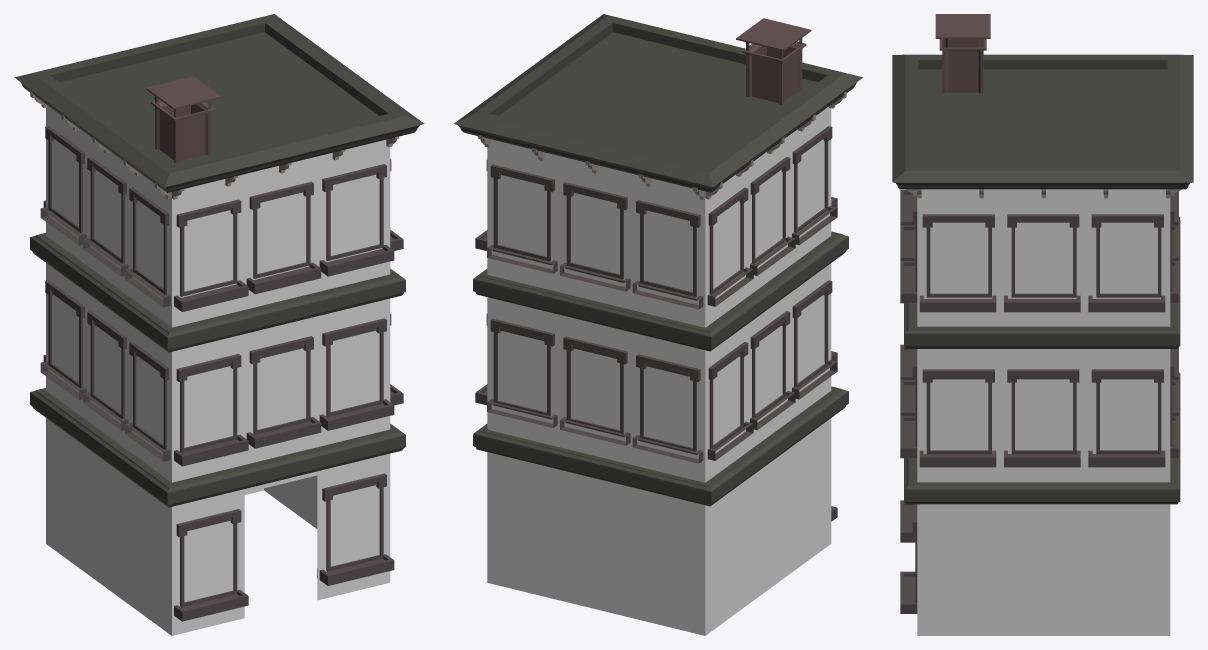
The model's file is Batiment.MSH_.fbx.
3 views of the same model, side by side, from view 1: azimuth 30°, elevation 25°; view 2: azimuth 150°, elevation 25°; view 3: azimuth 270°, elevation 25° (orthographic).
Visible parts, largest first — view 1: immeuble, toit, jonction, deco fenetre, vitre., deco fenetre.side, cheminée, soutient toit; view 2: immeuble, toit, jonction, vitre., deco fenetre, deco fenetre.side, cheminée, soutient toit; view 3: immeuble, toit, jonction, deco fenetre.side, vitre., deco fenetre, cheminée.
Part boxes in pixels (x1,y1,x2,y2): immeuble: [46, 106, 390, 635]; toit: [14, 14, 424, 192]; jonction: [30, 233, 405, 507]; deco fenetre: [43, 164, 394, 621]; vitre.: [48, 136, 383, 607]; deco fenetre.side: [40, 126, 403, 461]; cheminée: [146, 76, 221, 163]; soutient toit: [30, 91, 398, 199]; immeuble: [487, 106, 831, 635]; toit: [454, 14, 862, 192]; jonction: [473, 231, 848, 506]; vitre.: [493, 137, 828, 451]; deco fenetre: [487, 164, 837, 521]; deco fenetre.side: [475, 126, 837, 460]; cheminée: [736, 18, 811, 104]; soutient toit: [477, 91, 846, 199]; immeuble: [917, 189, 1170, 635]; toit: [892, 54, 1193, 189]; jonction: [904, 217, 1180, 504]; deco fenetre.side: [919, 214, 1165, 467]; vitre.: [915, 221, 1172, 602]; deco fenetre: [900, 189, 1178, 613]; cheminée: [935, 14, 990, 93].
Size of the model in its own units: 238 by 454 by 238.
